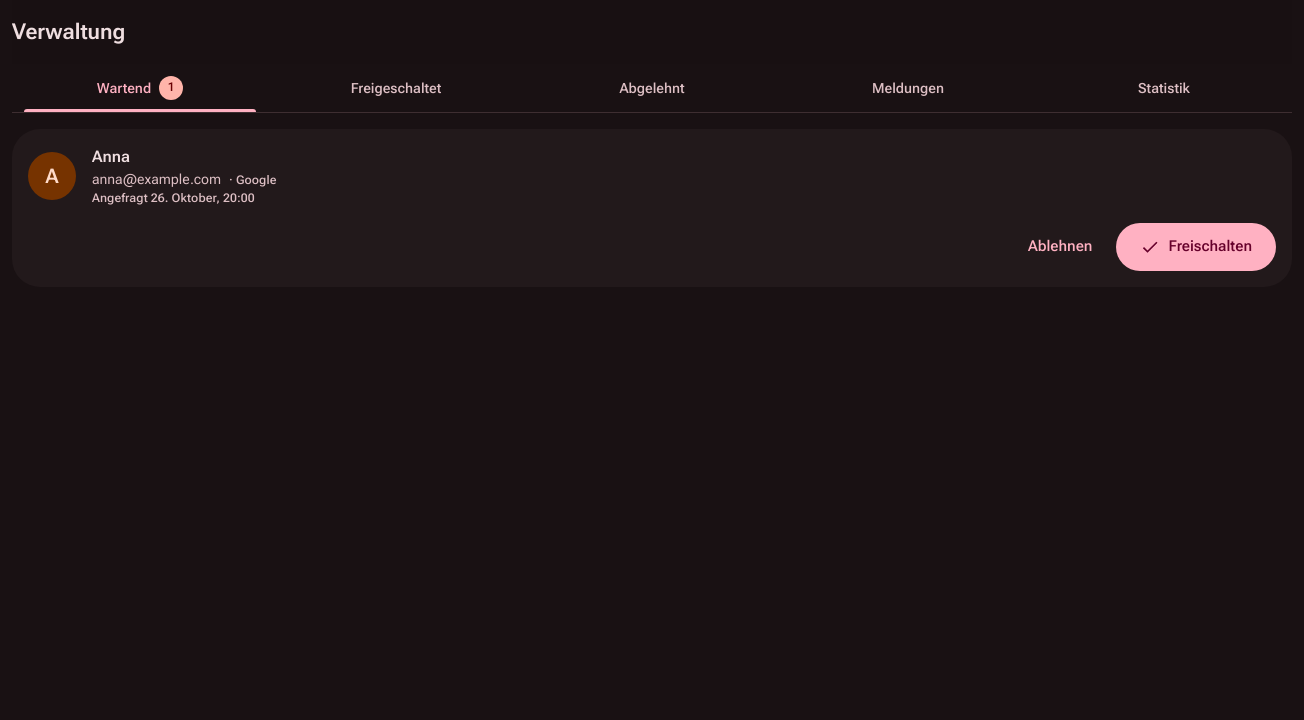
it: AdminScreen › undo restores the previous status
Click the button "Freischalten".
click(1196, 247)  # box [1116, 223, 1276, 271]
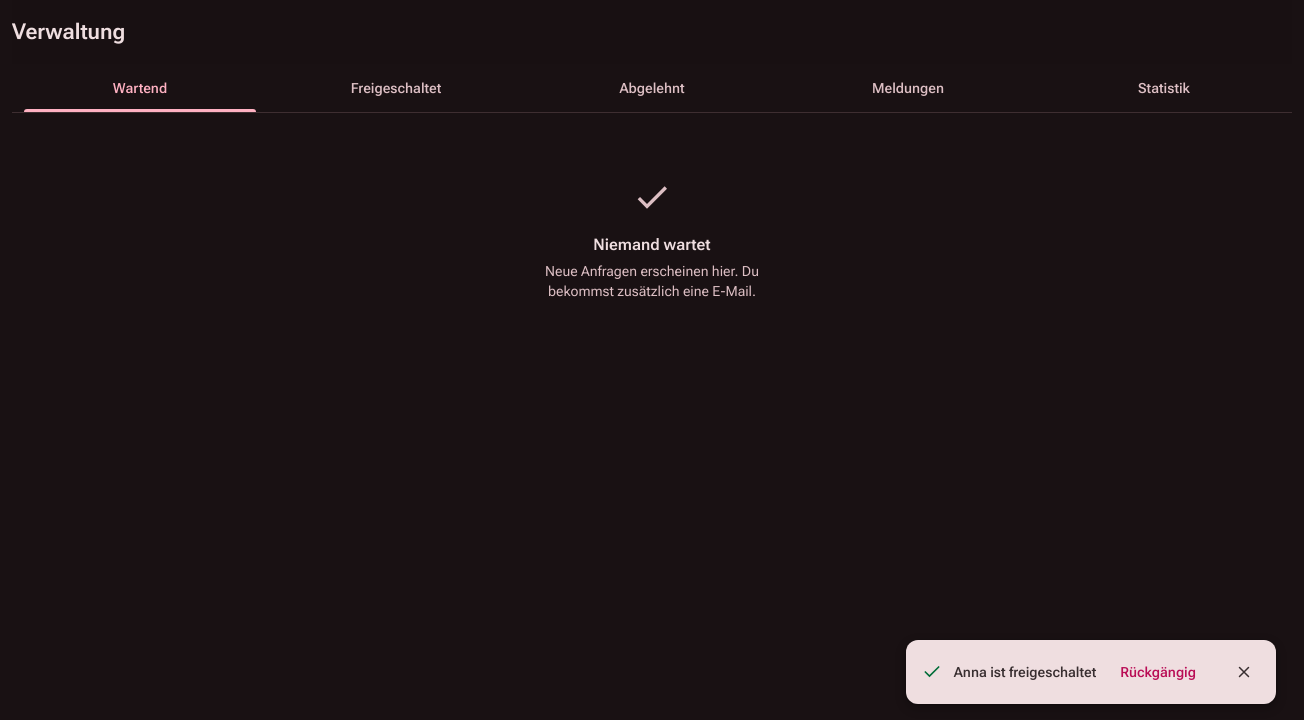
Click the button "Rückgängig".
click(1158, 672)  # box [1108, 652, 1208, 692]
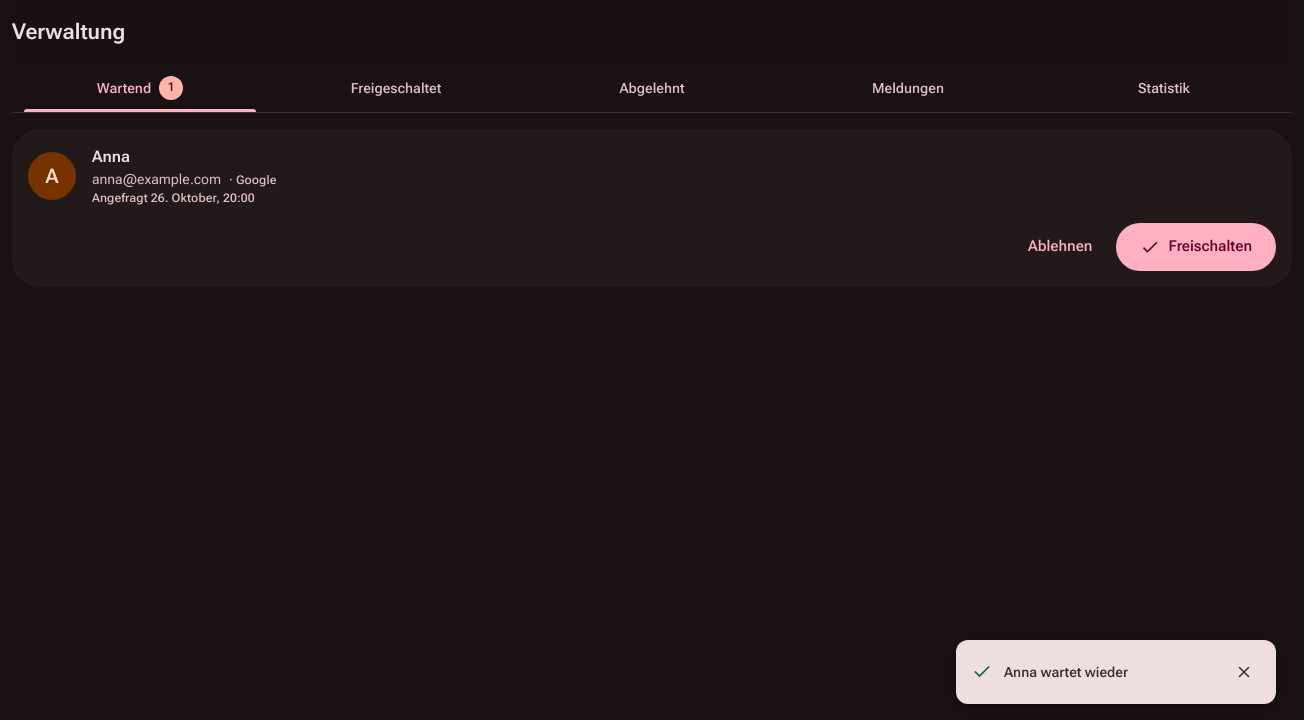
Expected: the text "Anna" is shown, [92, 147, 130, 166]
